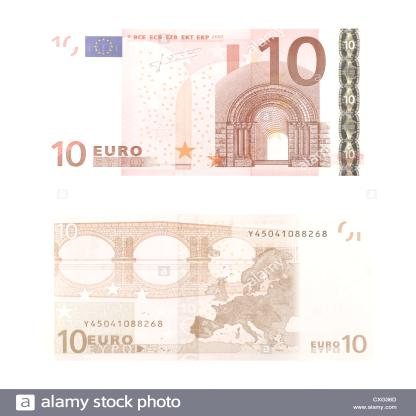euro_banknote: (37, 28, 371, 178), (50, 219, 375, 364)
